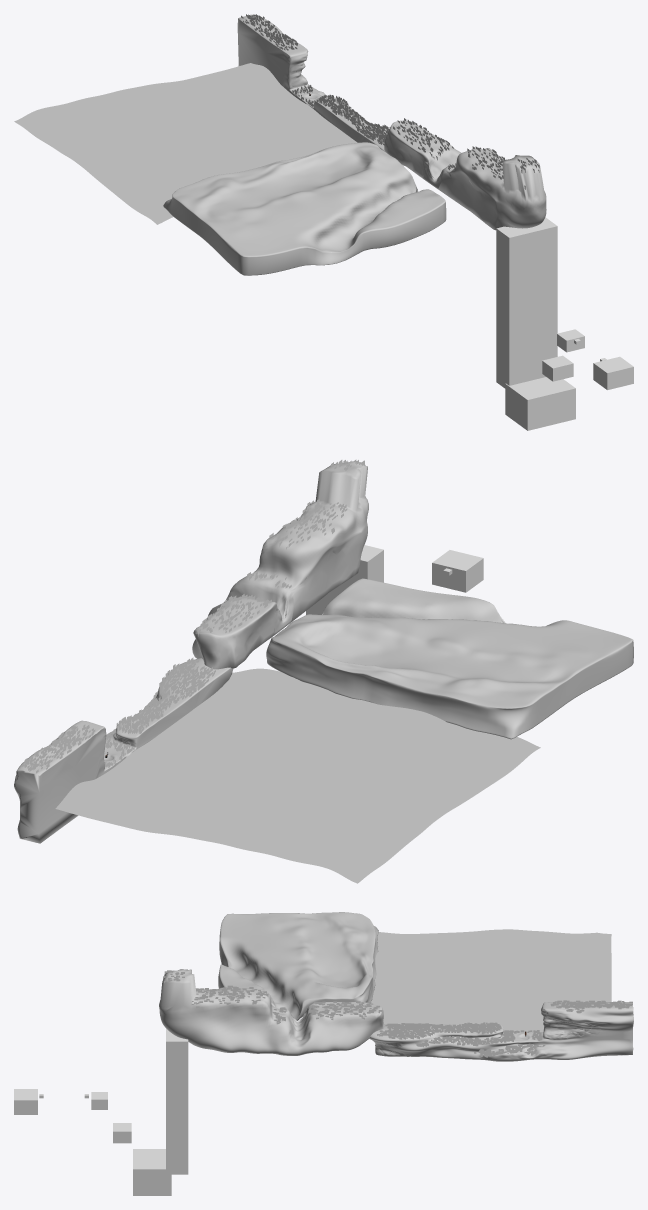
File: forest.fbx
The picture shows the model from 3 angles, top to bottom: view 1: azimuth 30°, elevation 25°; view 2: azimuth 150°, elevation 25°; view 3: azimuth 270°, elevation 25°; orthographic projection. The views are drawn at different scales.
Parts seen in each view (by area): view 1: Background01, Background_CrashSite, Cliff01, Ground02, Ground, Ground03, Plane.001, Grass02, Island03, Grass01, Island01; view 2: Background01, Background_CrashSite, Ground02, Ground, Grass02, Plane.001, Island03, Grass01, Cliff01; view 3: Background01, Background_CrashSite, Ground02, Ground, Cliff01, Plane.001, Grass01, Ground03, Grass02, Island03.
Part boxes in pixels (x1,y1,x2,y2): Background01: (14,63,404,224); Background_CrashSite: (163,142,446,275); Cliff01: (496,217,557,388); Ground02: (384,120,546,230); Ground: (237,14,387,151); Ground03: (505,377,575,430); Plane.001: (393,118,539,189); Grass02: (241,14,389,145); Island03: (593,356,633,390); Grass01: (292,85,374,125); Island01: (542,355,573,381); Background01: (55,668,540,883); Background_CrashSite: (266,578,633,739); Ground02: (192,461,368,669); Ground: (14,658,233,843); Grass02: (22,657,215,773); Plane.001: (197,459,365,636); Island03: (432,550,483,592); Grass01: (104,692,177,767); Cliff01: (306,545,383,614); Background01: (371,929,611,1031); Background_CrashSite: (218,912,378,1020); Ground02: (159,969,384,1055); Ground: (369,1002,633,1061); Cliff01: (166,1028,188,1174); Plane.001: (163,970,382,1024); Grass01: (431,1022,545,1057); Ground03: (133,1149,171,1195); Grass02: (377,1000,632,1047); Island03: (14,1089,37,1114).
Size of the model in its own units: 17638 by 13991 by 37010.
